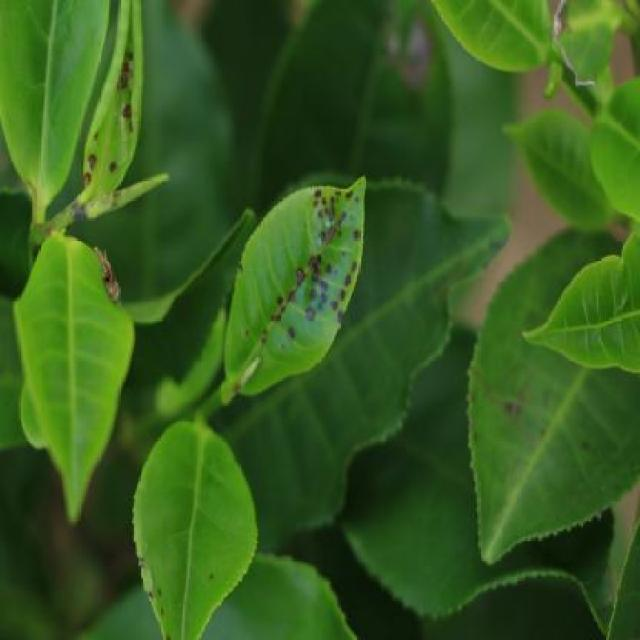Tea Mosquito bug infested leaf: (228, 171, 375, 403), (84, 3, 148, 237)
